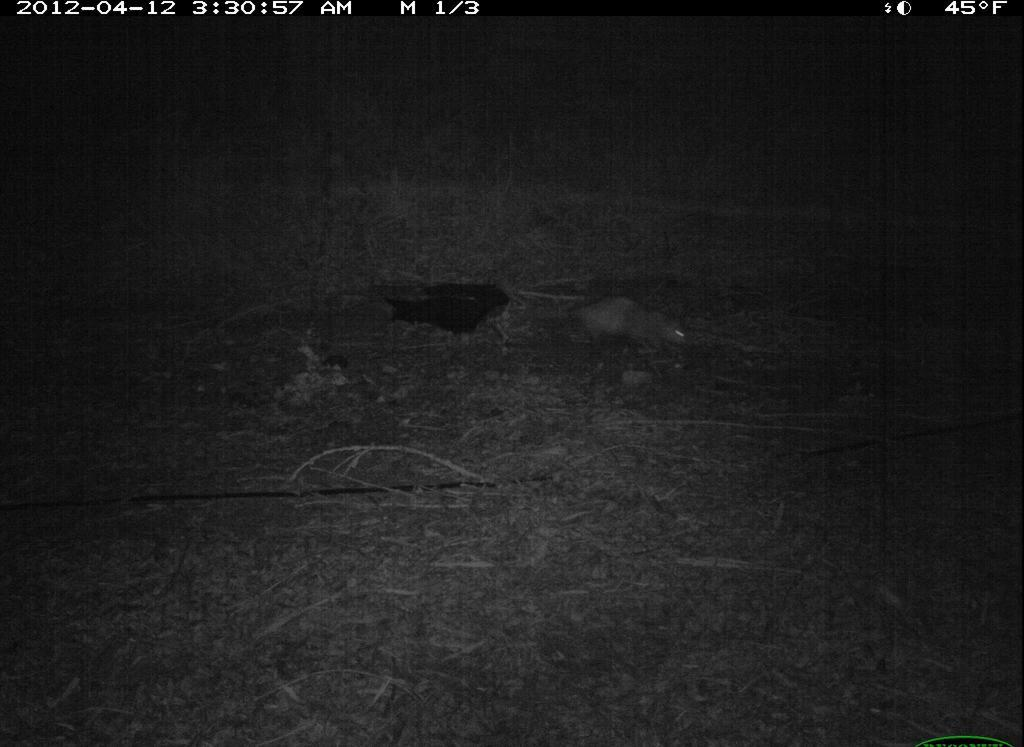opossum: (530, 287, 703, 368)
